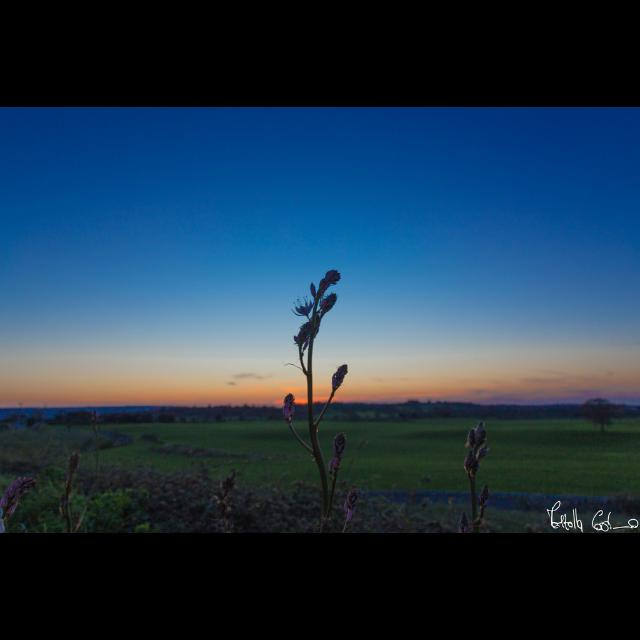Flower: (0, 478, 36, 520), (328, 434, 346, 482), (292, 322, 320, 350), (289, 294, 315, 318), (330, 365, 348, 397), (344, 488, 358, 526), (319, 290, 337, 316), (318, 272, 339, 294), (66, 450, 82, 478), (474, 424, 486, 448), (283, 395, 293, 423), (466, 449, 476, 473), (479, 483, 489, 505), (469, 425, 476, 449), (477, 448, 487, 462), (310, 283, 316, 297)
